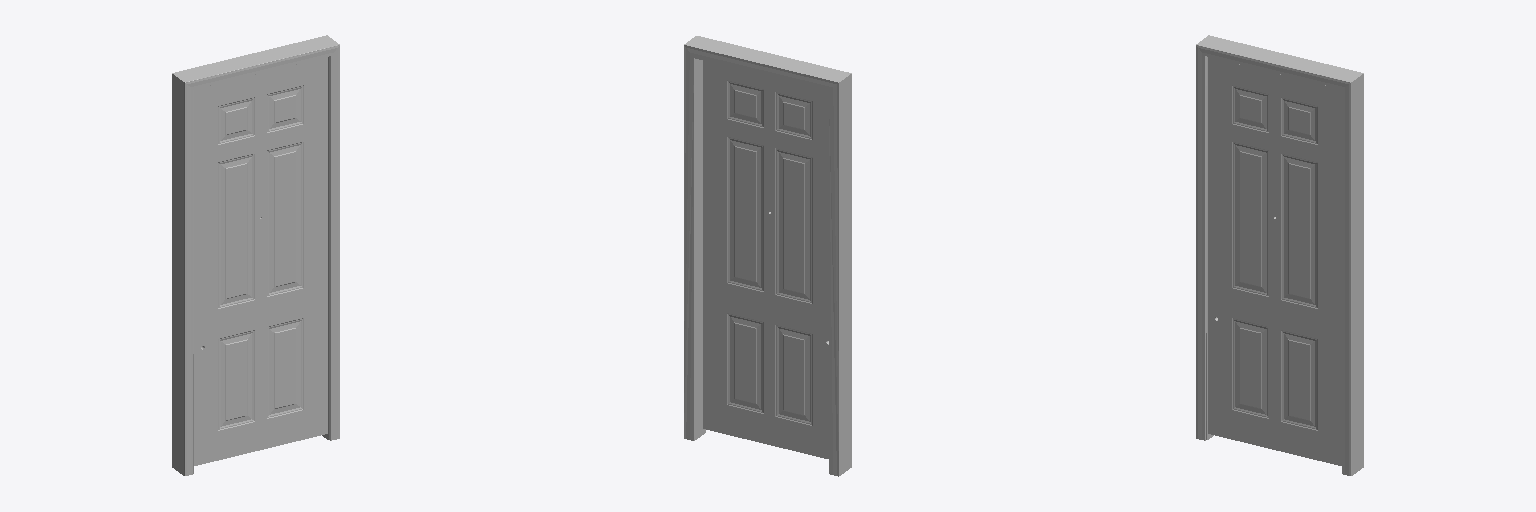
Rendered from WhiteMatteObjects.obj.
The picture shows the model from 3 angles: view 1: azimuth 30°, elevation 25°; view 2: azimuth 150°, elevation 25°; view 3: azimuth 330°, elevation 25°; orthographic projection.
Visible parts, largest first — view 1: WhiteMatteObjects; view 2: WhiteMatteObjects; view 3: WhiteMatteObjects.
Part boxes in pixels (left/top/right/bottom): WhiteMatteObjects: left=172, top=35, right=339, bottom=475; WhiteMatteObjects: left=684, top=36, right=851, bottom=476; WhiteMatteObjects: left=1196, top=35, right=1363, bottom=475.
Bounding box in the file's own units: 4.17 × 10.09 × 0.604.